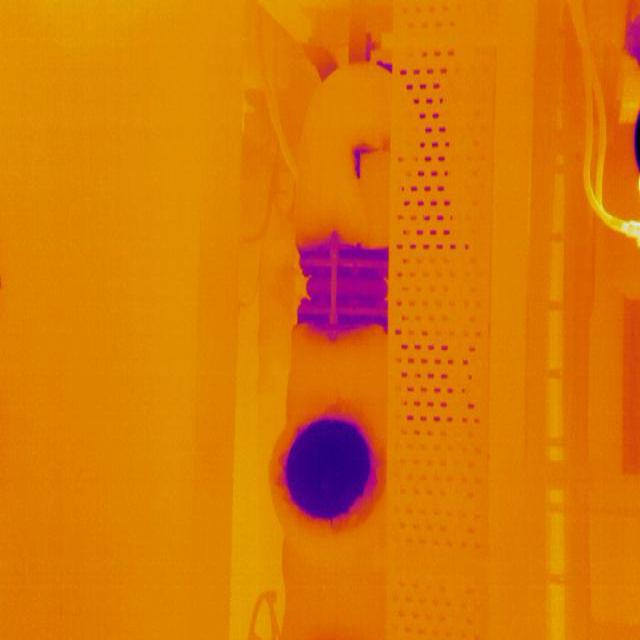leakage: (345, 130, 378, 182)
